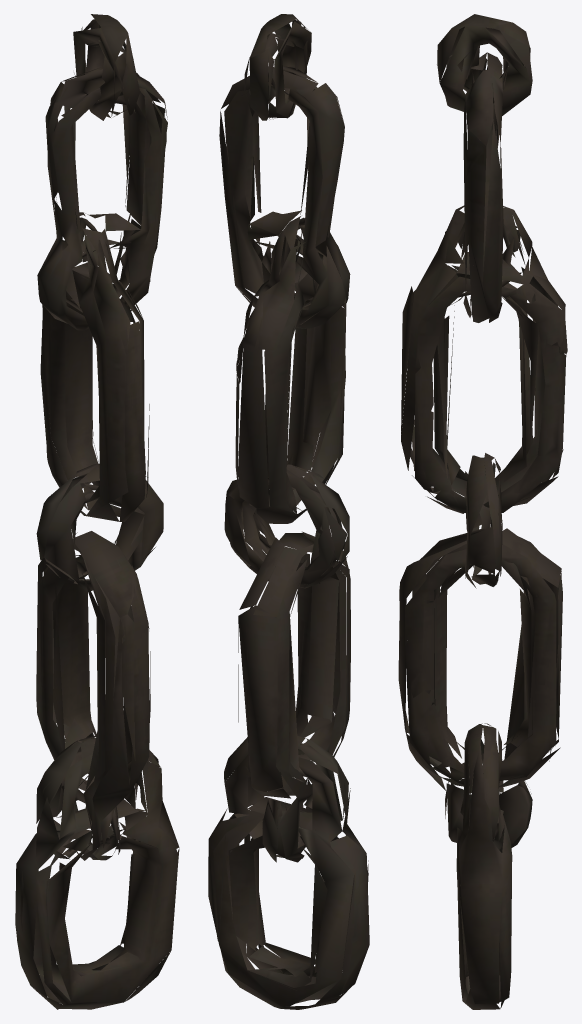
The model's file is dre_chain_short.glb.
The picture shows the model from 3 angles, left to right: view 1: azimuth 30°, elevation 25°; view 2: azimuth 150°, elevation 25°; view 3: azimuth 270°, elevation 25°; orthographic projection.
Size of the model in its own units: 0.2353 by 1.49 by 0.2323.
1 material, 1 textured.
